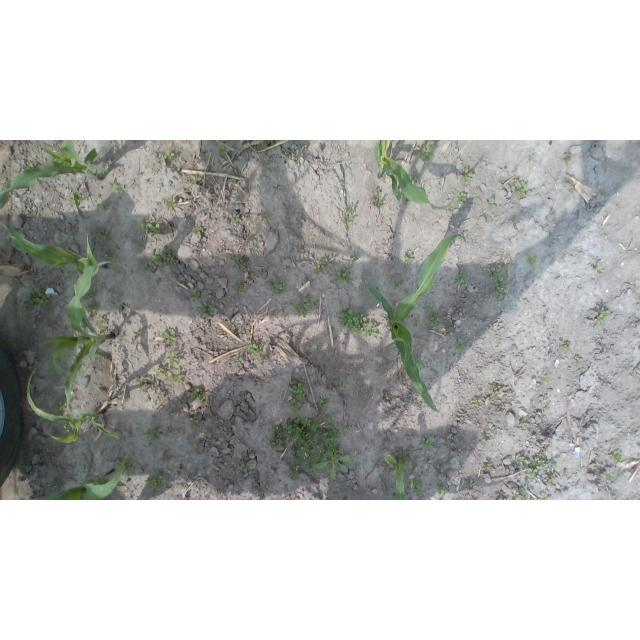Maize: (363, 232, 467, 413), (39, 260, 129, 432), (1, 220, 100, 334), (0, 141, 108, 212), (26, 368, 120, 444), (373, 141, 459, 212), (16, 453, 129, 500), (383, 452, 413, 500)
Weeds: (267, 412, 354, 480), (337, 305, 379, 340), (18, 286, 55, 319), (515, 451, 549, 483), (81, 276, 102, 316), (487, 266, 510, 299), (288, 378, 306, 414), (135, 218, 165, 237), (150, 248, 178, 267), (293, 296, 316, 317), (144, 472, 168, 491), (267, 276, 288, 296), (247, 340, 268, 360), (141, 425, 161, 444), (195, 302, 218, 318), (418, 436, 435, 457), (313, 257, 335, 273), (341, 205, 356, 228), (510, 179, 528, 198), (67, 189, 86, 207), (332, 267, 352, 284), (594, 307, 611, 326), (418, 145, 435, 163), (49, 400, 68, 416), (136, 373, 152, 391), (169, 369, 186, 385), (512, 486, 531, 500), (489, 384, 504, 400), (609, 450, 624, 466), (409, 477, 423, 494), (162, 328, 176, 344), (459, 168, 473, 183), (427, 314, 442, 328), (335, 377, 349, 392), (165, 352, 179, 367), (190, 388, 206, 401), (599, 472, 617, 483), (96, 315, 107, 333), (453, 271, 467, 285), (60, 422, 74, 436), (398, 449, 411, 464), (109, 179, 125, 191), (558, 340, 571, 354), (525, 253, 537, 268), (402, 251, 414, 266), (236, 463, 252, 474), (436, 482, 449, 495), (454, 338, 466, 352), (317, 395, 329, 409), (165, 197, 177, 211), (349, 250, 360, 265), (233, 257, 248, 268), (96, 229, 109, 241), (422, 302, 434, 314), (193, 223, 204, 236), (188, 174, 202, 184), (216, 142, 226, 156), (49, 478, 64, 487), (153, 368, 165, 379), (486, 198, 496, 211), (163, 151, 176, 161), (394, 277, 405, 288), (471, 397, 482, 408), (548, 474, 559, 485), (133, 329, 144, 340), (124, 463, 135, 474), (191, 288, 201, 300), (261, 140, 275, 148), (457, 193, 468, 203), (412, 318, 423, 328), (539, 373, 550, 383), (415, 357, 426, 367), (518, 419, 529, 429), (234, 281, 244, 292), (564, 152, 573, 164), (372, 198, 384, 207), (189, 417, 199, 427), (226, 319, 236, 329), (354, 465, 363, 476), (234, 356, 243, 367), (97, 201, 109, 209), (595, 263, 603, 274), (64, 269, 76, 276), (261, 212, 270, 221), (408, 174, 417, 183), (468, 478, 476, 488), (230, 214, 240, 222), (538, 493, 549, 500), (574, 356, 582, 365), (550, 460, 558, 469), (26, 161, 35, 169), (484, 462, 491, 472), (292, 152, 299, 162), (544, 403, 552, 411), (527, 155, 535, 162), (304, 275, 312, 282), (32, 400, 40, 407), (373, 188, 380, 196), (427, 140, 439, 144), (118, 492, 126, 498), (400, 190, 406, 198), (402, 199, 410, 205), (249, 233, 255, 240), (481, 438, 487, 444), (117, 460, 122, 466), (564, 471, 569, 476), (571, 186, 575, 190), (274, 183, 278, 187), (504, 498, 508, 500)
